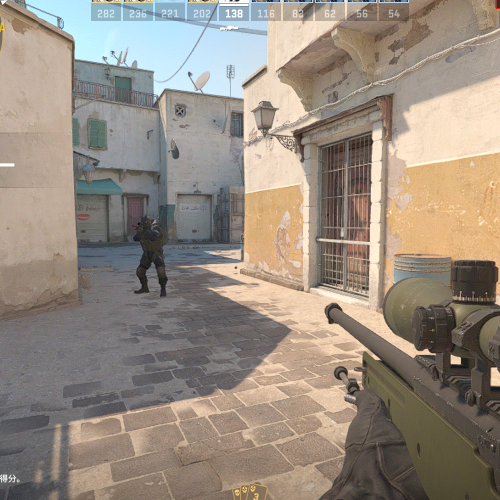ct_body: (132, 216, 168, 298)
ct_head: (140, 216, 152, 228)
